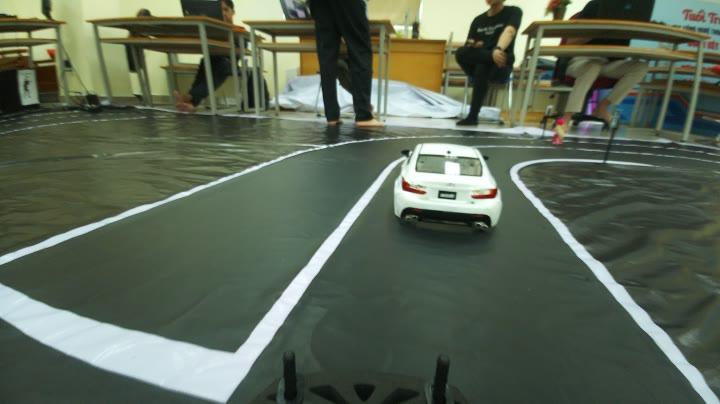car: (398, 132, 512, 231)
